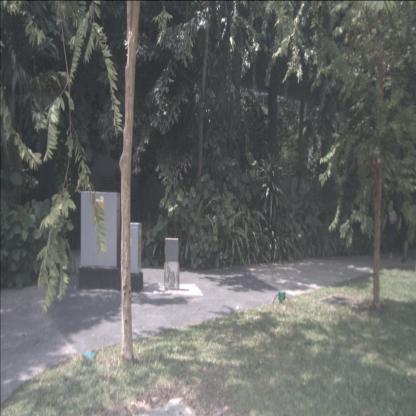human-pedestrian-adult: (382, 198, 400, 260), (398, 199, 412, 263)
